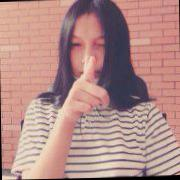WRONG: (65, 27, 118, 92)
